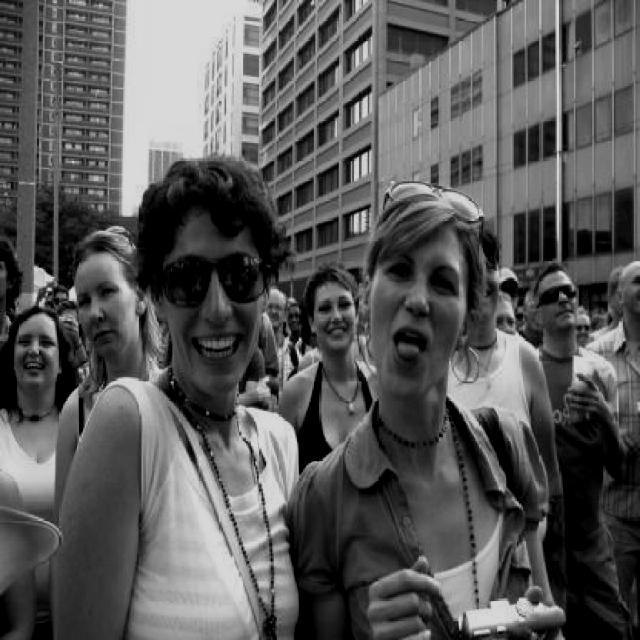face_nomask: (368, 257, 468, 365), (169, 252, 263, 366), (79, 274, 127, 351), (9, 329, 58, 382), (540, 275, 578, 328), (314, 294, 352, 337)
glasses: (154, 244, 275, 316), (534, 279, 578, 307)
hand_noglove: (358, 551, 453, 640), (562, 374, 607, 421)
head_nohelmet: (142, 152, 278, 232), (372, 180, 497, 252), (74, 224, 132, 273), (304, 254, 361, 294), (15, 306, 59, 336)
person: (53, 149, 316, 640), (302, 186, 560, 640), (522, 266, 612, 640), (0, 307, 74, 640), (276, 270, 375, 470)
